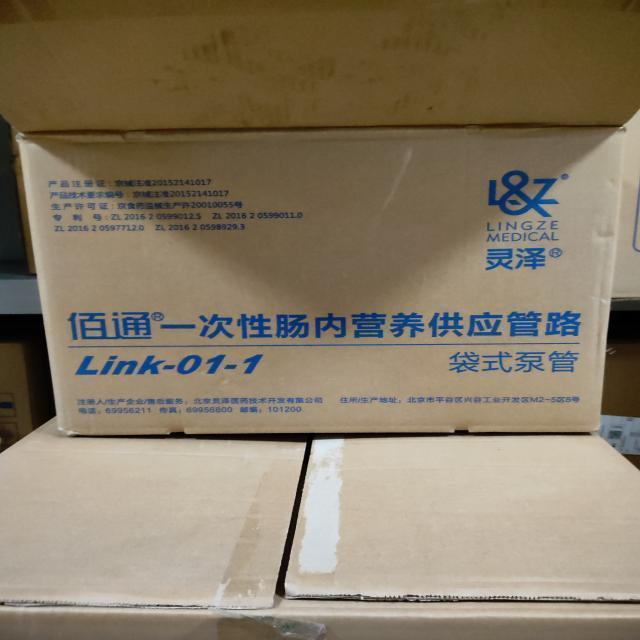box: (13, 128, 626, 434), (0, 414, 640, 640)
